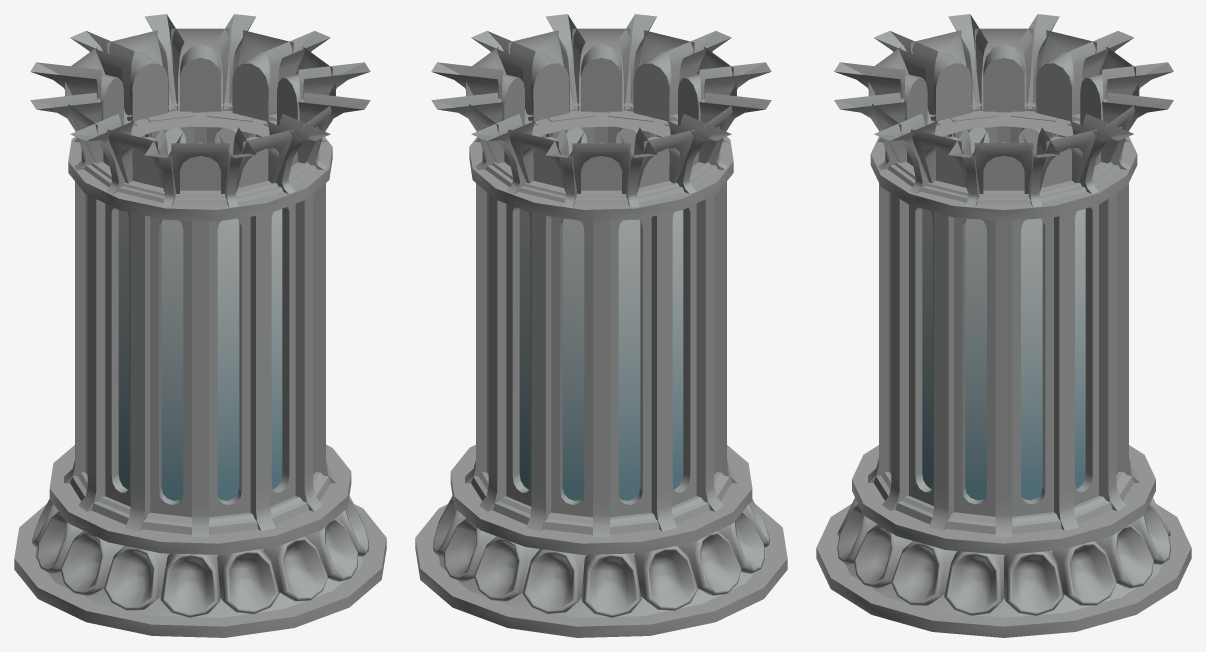
3 views of the same model, side by side, from view 1: azimuth 30°, elevation 25°; view 2: azimuth 150°, elevation 25°; view 3: azimuth 270°, elevation 25° (orthographic).
Parts seen in each view (by area): view 1: G:\FFXIV-MapTools\exports\d2f3\bg\ex1\02_dra_d2\fld\d2f3\bgp (×6); view 2: G:\FFXIV-MapTools\exports\d2f3\bg\ex1\02_dra_d2\fld\d2f3\bgp (×6); view 3: G:\FFXIV-MapTools\exports\d2f3\bg\ex1\02_dra_d2\fld\d2f3\bgp (×6).
Boxes of the visible parts, left/top/right/bottom form: G:\FFXIV-MapTools\exports\d2f3\bg\ex1\02_dra_d2\fld\d2f3\bgp (×6): left=14, top=14, right=386, bottom=637; G:\FFXIV-MapTools\exports\d2f3\bg\ex1\02_dra_d2\fld\d2f3\bgp (×6): left=415, top=14, right=787, bottom=637; G:\FFXIV-MapTools\exports\d2f3\bg\ex1\02_dra_d2\fld\d2f3\bgp (×6): left=816, top=14, right=1191, bottom=637.
Bounding box in the file's own units: 29.97 × 41.69 × 29.97.
